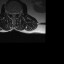CCS_normal: (13, 10, 14, 18)
LFS_normal: (16, 10, 18, 15)
LLS_normal: (14, 11, 16, 16)
RFS_normal: (8, 10, 10, 15)
RLS_normal: (10, 10, 13, 16)
